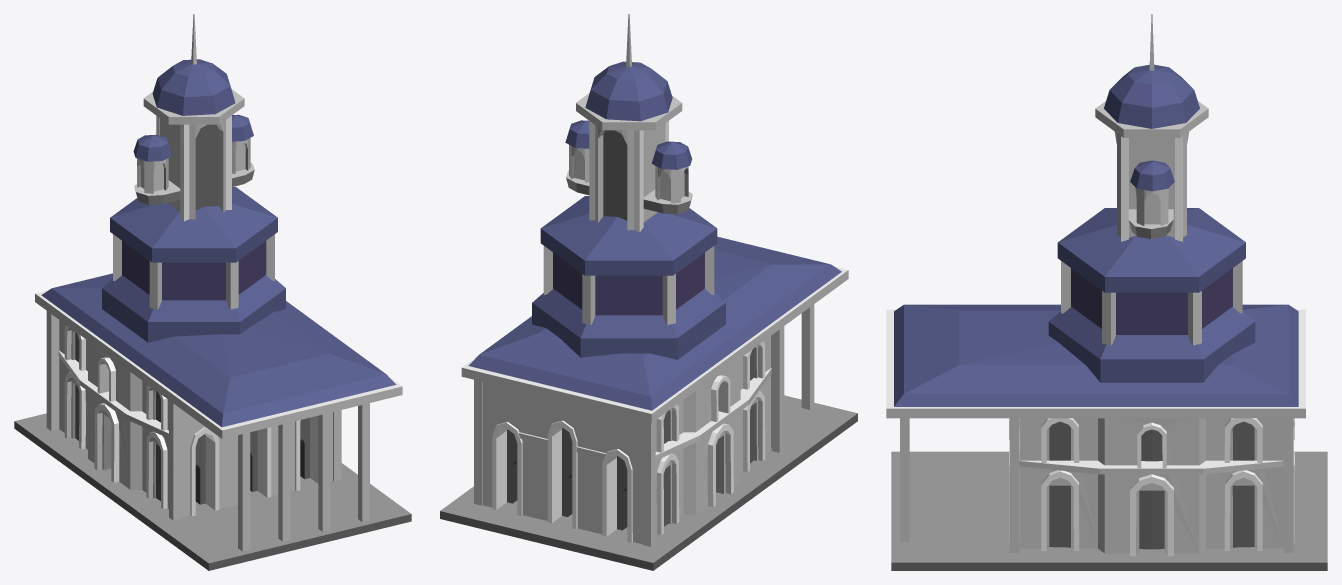
File: temple_001.fbx
The picture shows the model from 3 angles, left to right: view 1: azimuth 30°, elevation 25°; view 2: azimuth 150°, elevation 25°; view 3: azimuth 270°, elevation 25°; orthographic projection. The views are drawn at different scales.
Visible parts, largest first — view 1: temple_001; view 2: temple_001; view 3: temple_001.
Boxes of the visible parts, x1,y1,x2,y2 form: temple_001: (14,14,411,570); temple_001: (440,14,857,570); temple_001: (886,14,1327,570).
Bounding box in the file's own units: 1191 × 2510 × 2002.
